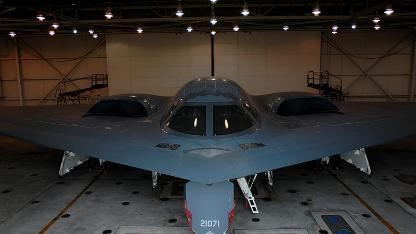B1: (1, 76, 415, 232)
